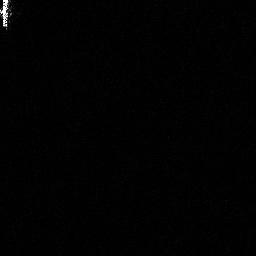ship: (1, 1, 13, 30)
